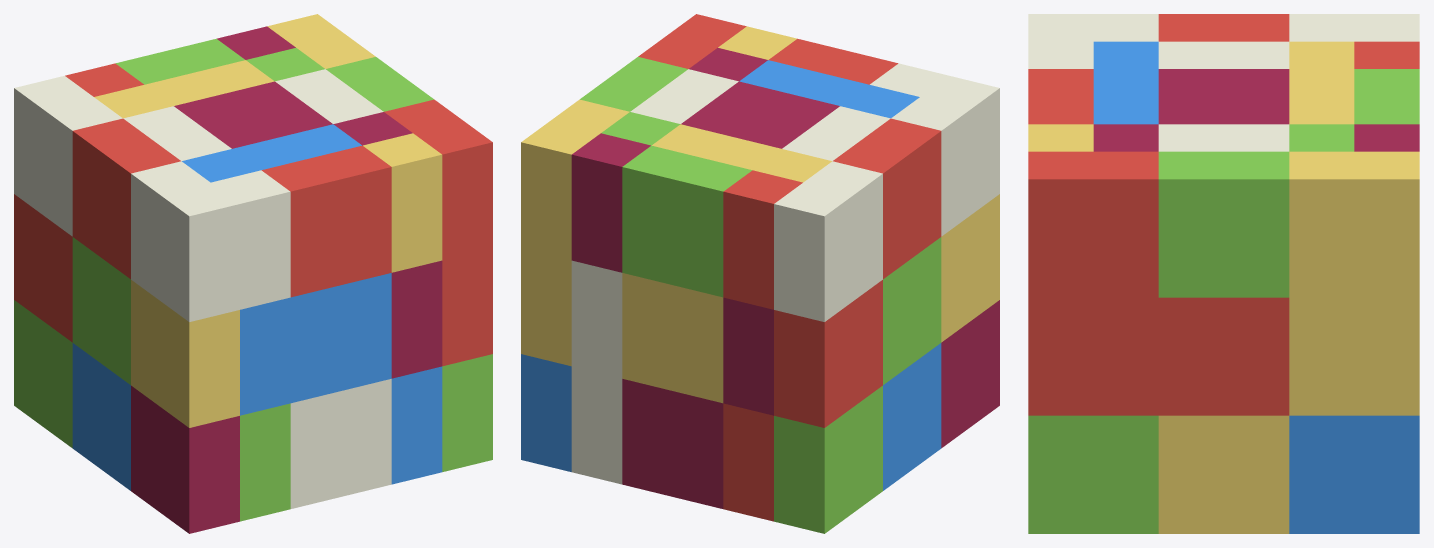
Rendered from Rubik.obj.
3 renders of one model, left to right at view 1: azimuth 30°, elevation 25°; view 2: azimuth 150°, elevation 25°; view 3: azimuth 270°, elevation 25°, orthographic. The views are drawn at different scales.
Bounding box in the file's own units: 0.6 × 0.6 × 0.6.
Materials: 1 (1 with a texture image).
